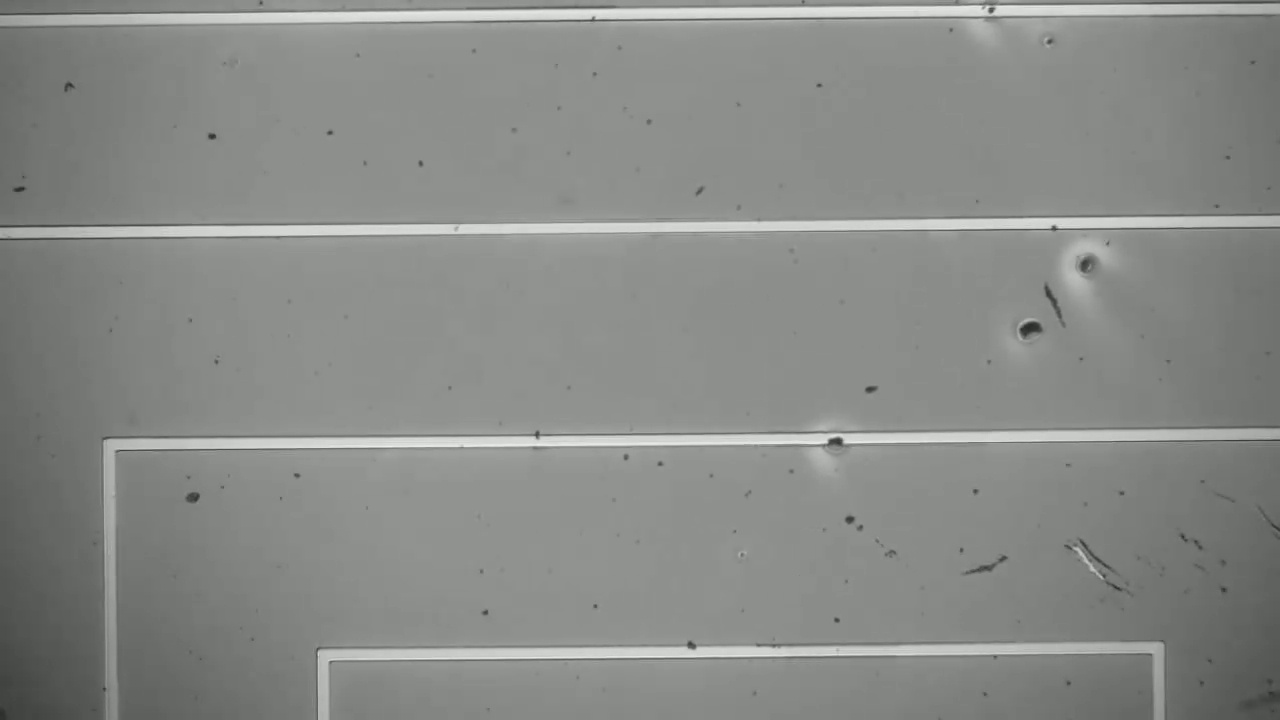stains_enbedded: (813, 416, 853, 465)
